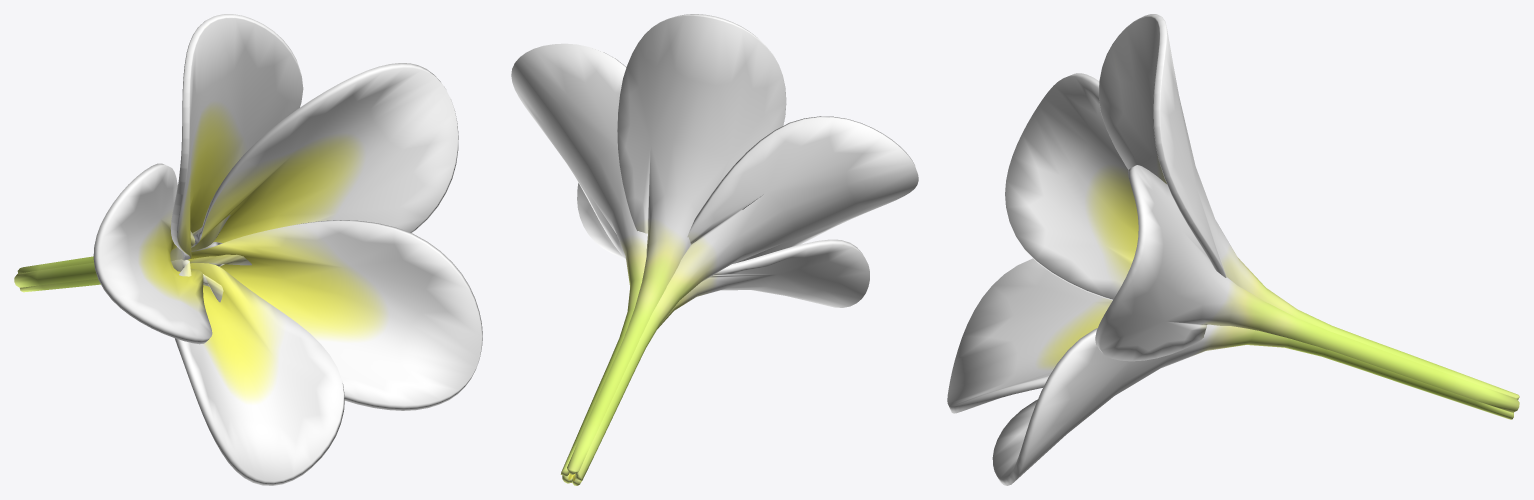
The model's file is plumeria_flower.glb.
3 views of the same model, side by side, from view 1: azimuth 30°, elevation 25°; view 2: azimuth 150°, elevation 25°; view 3: azimuth 270°, elevation 25° (orthographic). The views are drawn at different scales.
Parts seen in each view (by area): view 1: Circle.001_0; view 2: Circle.001_0; view 3: Circle.001_0.
Part boxes in pixels (x1,y1,x2,y2): Circle.001_0: [14, 14, 482, 485]; Circle.001_0: [511, 14, 918, 485]; Circle.001_0: [947, 14, 1519, 485].
Bounding box in the file's own units: 0.0667 × 0.0619 × 0.0785.
Materials: 1 (1 with a texture image).
